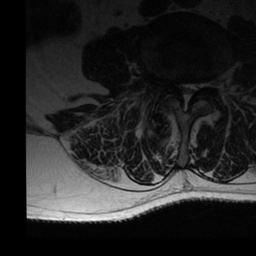CCS_normal: (182, 76, 190, 117)
LFS_severe_stenosis: (199, 74, 207, 95)
LLS_stenosis: (192, 74, 199, 99)
RFS_severe_stenosis: (168, 73, 176, 95)
RLS_severe_stenosis: (175, 74, 183, 97)
